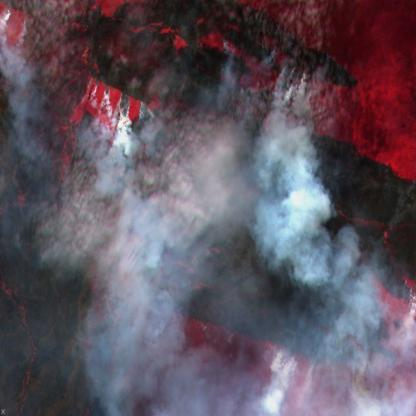fire: (83, 71, 149, 120), (264, 41, 319, 93), (0, 0, 33, 34), (264, 340, 300, 369), (217, 31, 233, 57), (404, 280, 416, 311)
